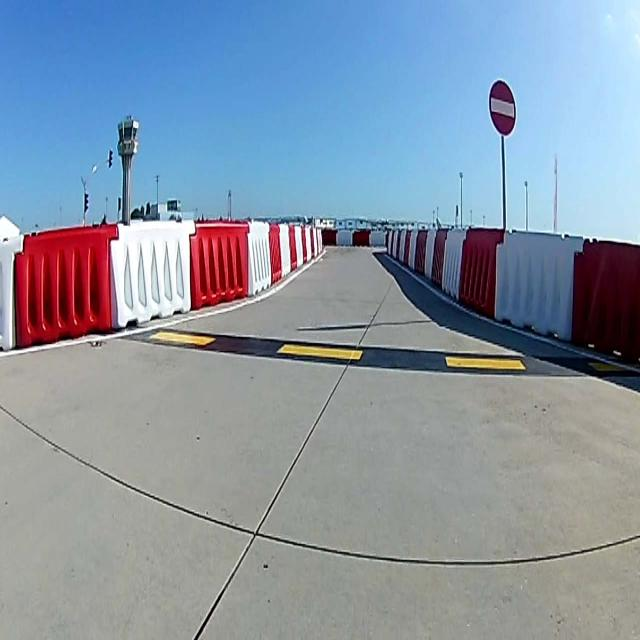girisyok: (487, 76, 518, 140)
